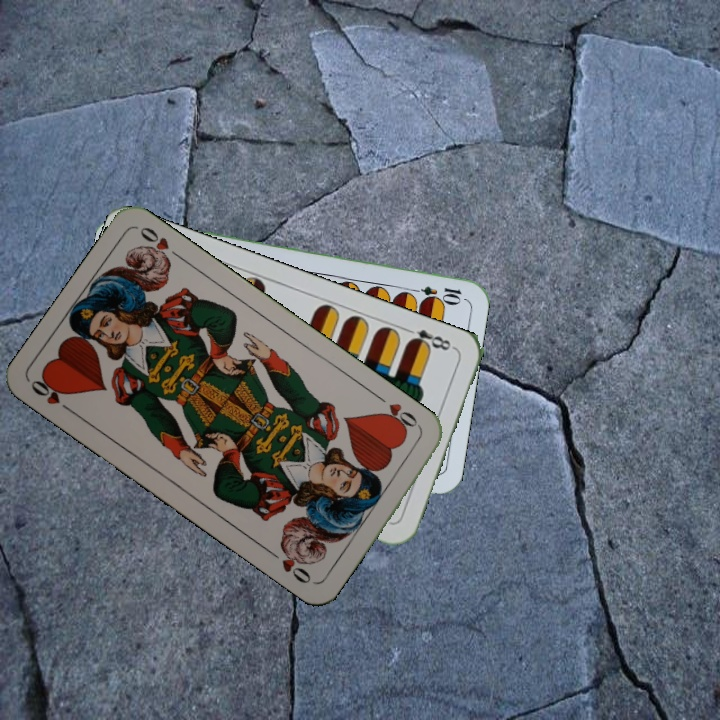E10: (405, 281, 464, 304)
E8: (401, 324, 458, 354)
HO: (26, 372, 78, 417), (373, 391, 424, 436)
